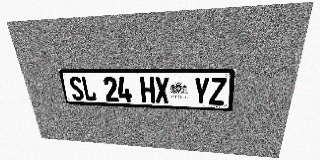2: (103, 76, 119, 102)
4: (116, 77, 132, 102)
H: (140, 77, 155, 103)
L: (80, 76, 97, 101)
S: (68, 76, 85, 100)
X: (154, 77, 169, 103)
Y: (193, 77, 210, 105)
Z: (209, 77, 227, 105)
